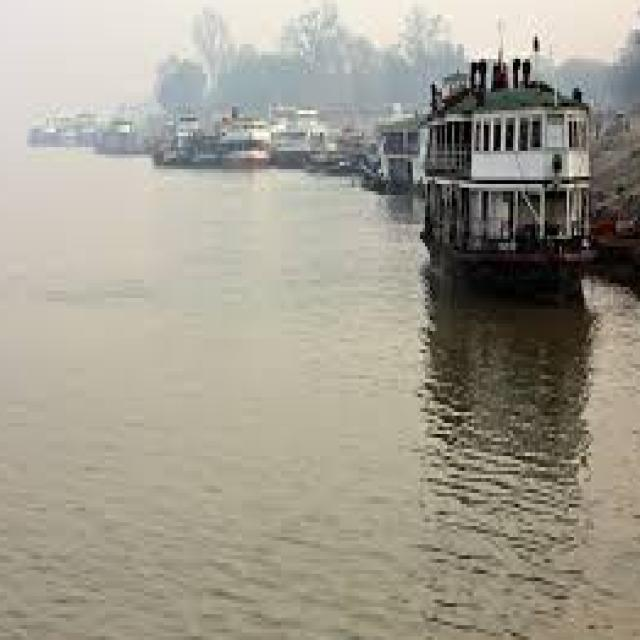houseboat: (420, 62, 601, 289)
